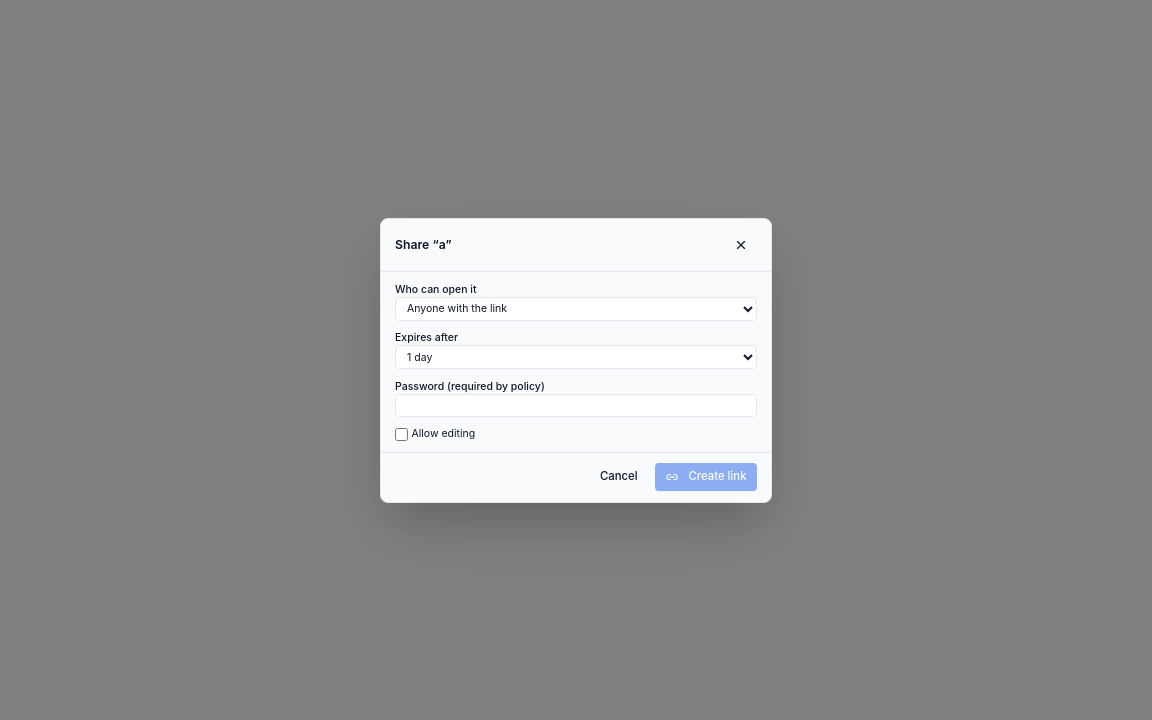
Scenario: ShareLinkDialog › requires a password when the policy does
Check: the text "Password (required by policy)" is shown, box [395,380,545,392]
Check: the button "Create link" is disabled, box [655,463,757,491]
Type "x" into the password field named "Link password" at (576, 405), box [395,394,757,416]
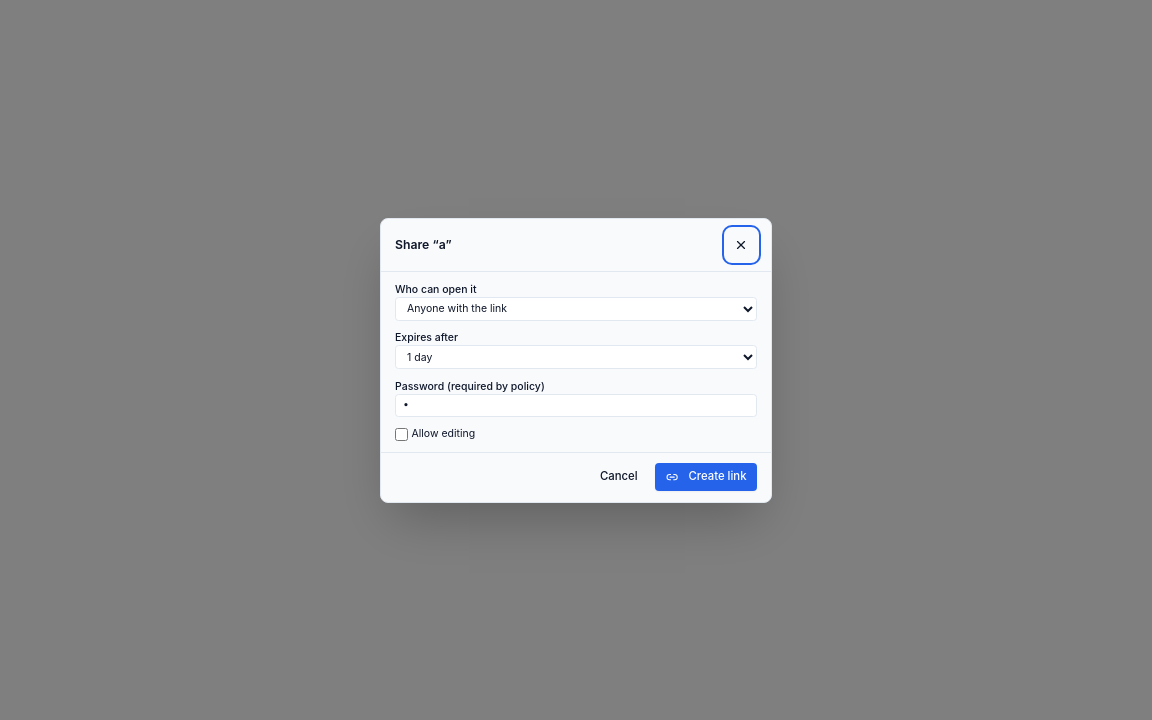
Check: the button "Create link" is enabled, box [655,463,757,491]
